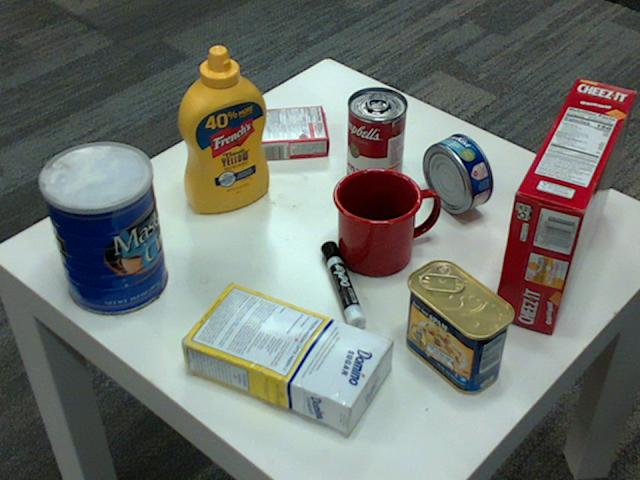cracker_box: (491, 77, 634, 332)
gelatin_box: (254, 103, 330, 158)
large_marker: (321, 242, 365, 334)
master_chef_can: (36, 142, 165, 316)
mug: (331, 165, 436, 274)
mustard_bottle: (177, 45, 269, 212)
potted_meat_can: (402, 259, 514, 393)
sugar_box: (175, 280, 390, 431)
tomato_soup_can: (346, 88, 407, 192)
tuna_fish_can: (422, 133, 491, 213)
